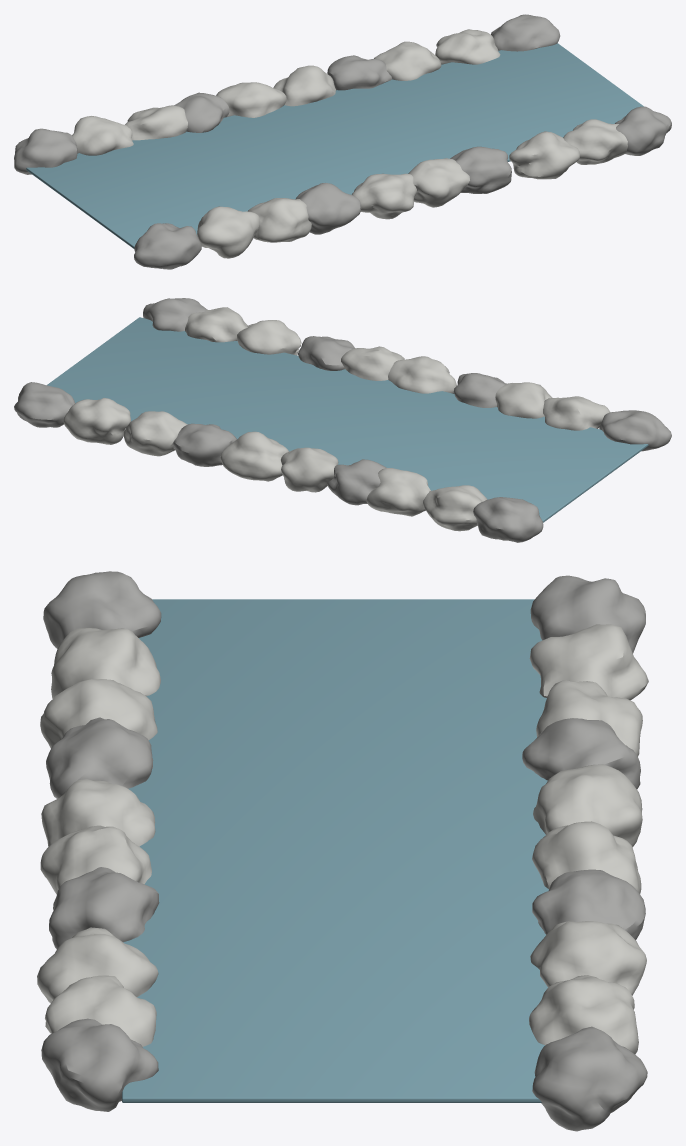
Rendered from kawa.glb.
3 views of the same model, one above another, from view 1: azimuth 30°, elevation 25°; view 2: azimuth 150°, elevation 25°; view 3: azimuth 270°, elevation 25° (orthographic). The views are drawn at different scales.
Visible parts, largest first — view 1: kawa; view 2: kawa; view 3: kawa.
Boxes of the visible parts, bbox=[...] form: kawa: bbox=[14, 14, 671, 269]; kawa: bbox=[14, 298, 671, 542]; kawa: bbox=[37, 571, 648, 1131].
Size of the model in its own units: 8.3 by 0.6939 by 4.14.
